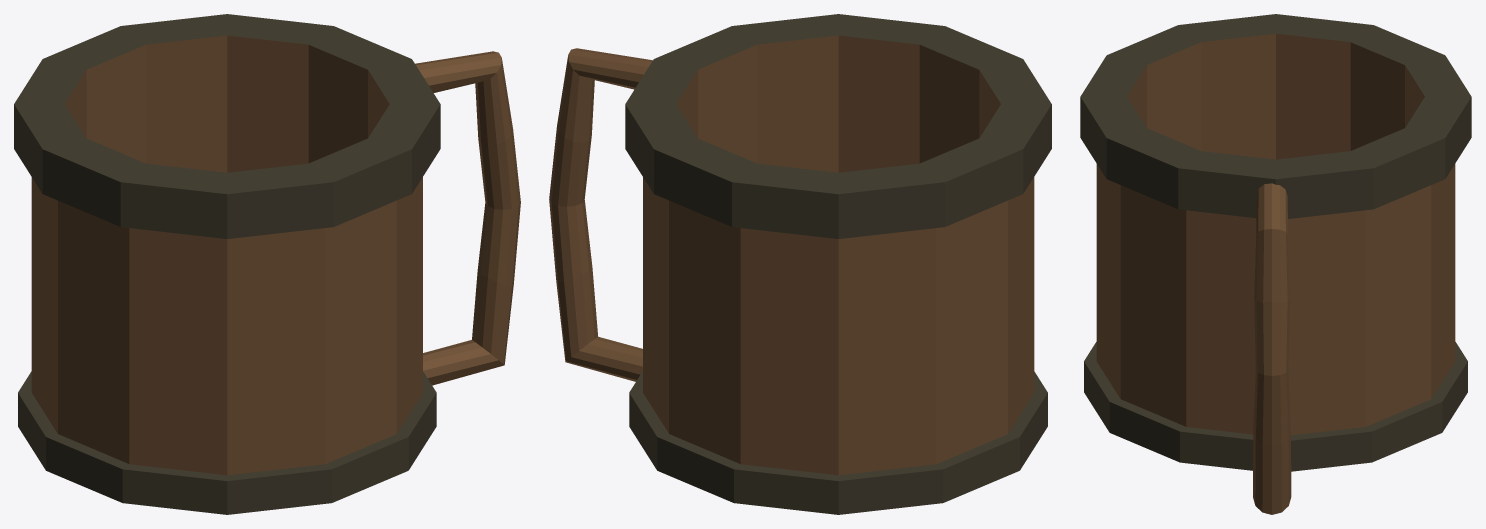
Rendered from Vaso_Cerveza.fbx.
3 views of the same model, side by side, from view 1: azimuth 30°, elevation 25°; view 2: azimuth 150°, elevation 25°; view 3: azimuth 270°, elevation 25° (orthographic). The views are drawn at different scales.
Parts seen in each view (by area): view 1: Vaso_cerveza; view 2: Vaso_cerveza; view 3: Vaso_cerveza.
Part boxes in pixels (x1,y1,x2,y2): Vaso_cerveza: (14,14,520,514); Vaso_cerveza: (549,14,1051,514); Vaso_cerveza: (1080,14,1471,514).
Bounding box in the file's own units: 37.85 × 25.05 × 29.51.
